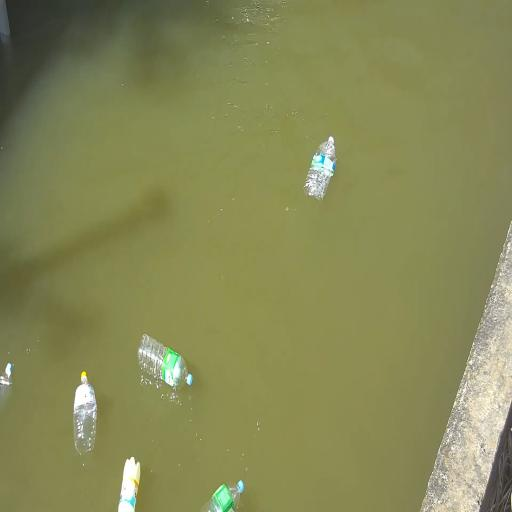plastic: (138, 334, 192, 389), (304, 137, 335, 200), (74, 372, 97, 455), (202, 480, 244, 511), (118, 457, 140, 511), (0, 364, 12, 410)
